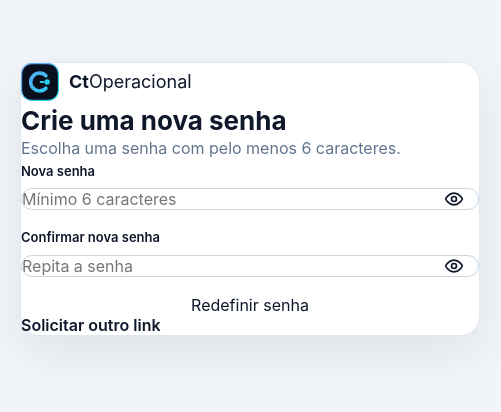
recuperação de senha › valida confirmação e envia token com nova senha
In the password field labelled "Nova senha": (250, 199) [21,188,479,210], type "nova123"
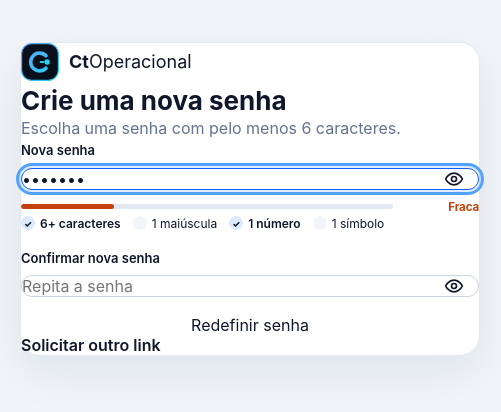
In the password field labelled "Confirmar nova senha": (250, 286) [21,276,479,298], type "outra123"
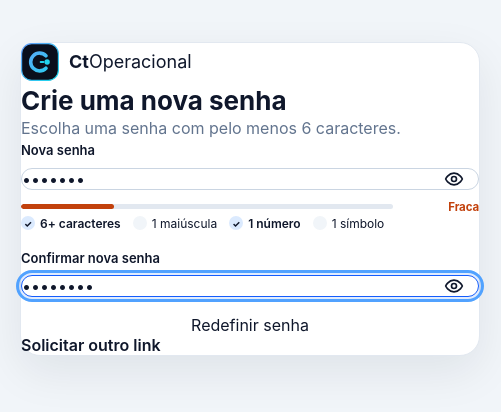
Click the button "Redefinir senha": (250, 326) [21,316,479,336]
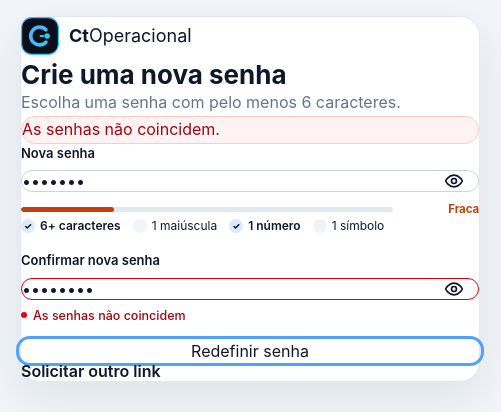
Now the message shows "não coincidem", box [22,119,220,139]
Clear the password field labelled "Confirmar nova senha": (250, 289) [21,278,479,300]
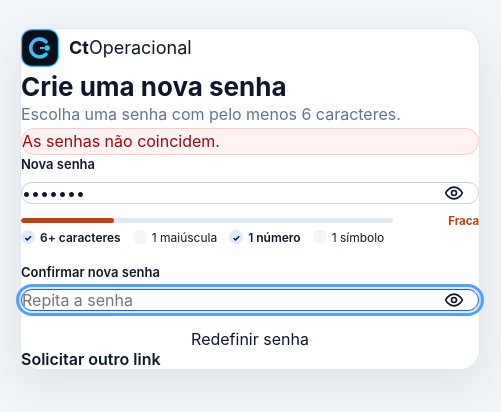
In the password field labelled "Confirmar nova senha": (250, 300) [21,289,479,311], type "nova123"
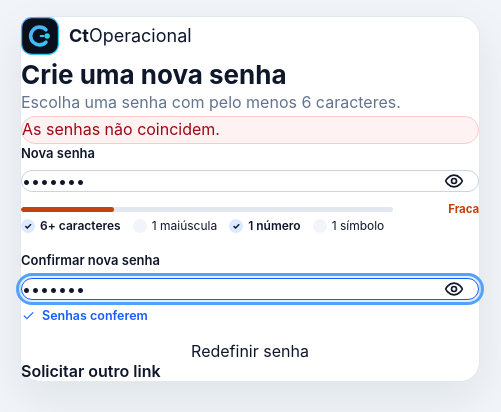
Click the button "Redefinir senha": (250, 351) [21,341,479,361]
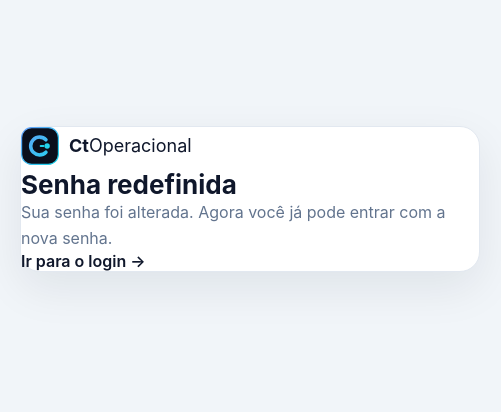
Now the message shows "Senha redefinida", box [21,169,237,200]
